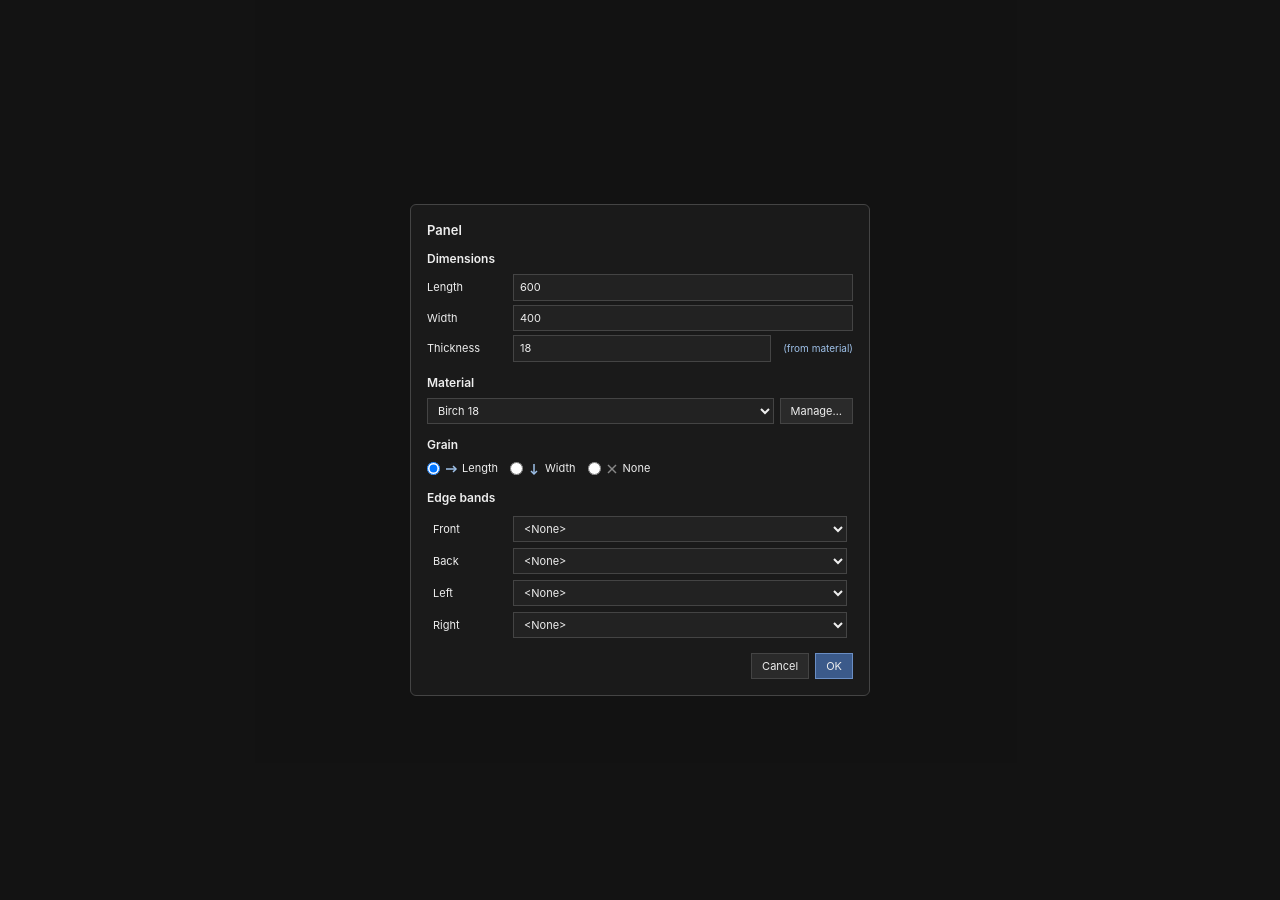
Test: PanelDialog › changing material with flag=true re-fills thickness
expect the field named "thickness" holds "18": met, box x1=513 y1=335 x2=771 y2=362
Select "Oak 22" in the dropdown named "material" at [600, 411], box x1=427 y1=398 x2=774 y2=424
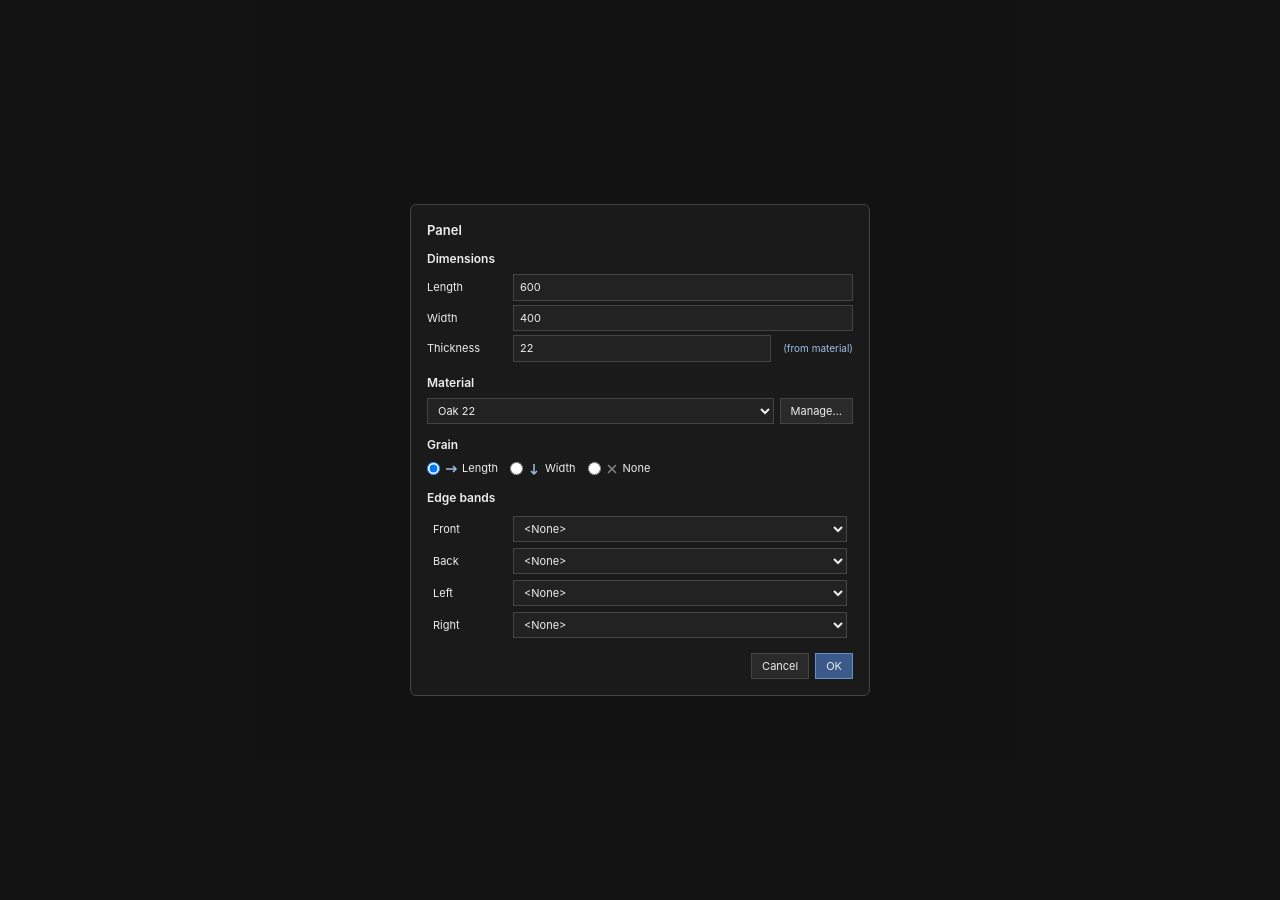
expect the field named "thickness" holds "22": met, box x1=513 y1=335 x2=771 y2=362
